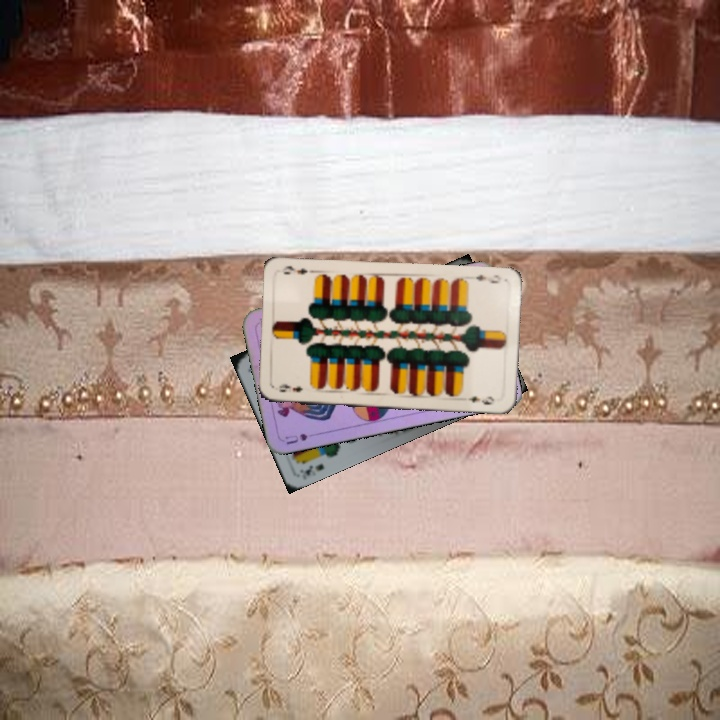E9: (472, 270, 505, 286), (275, 381, 305, 395)
EK: (296, 460, 326, 482)
SU: (281, 429, 321, 447)
